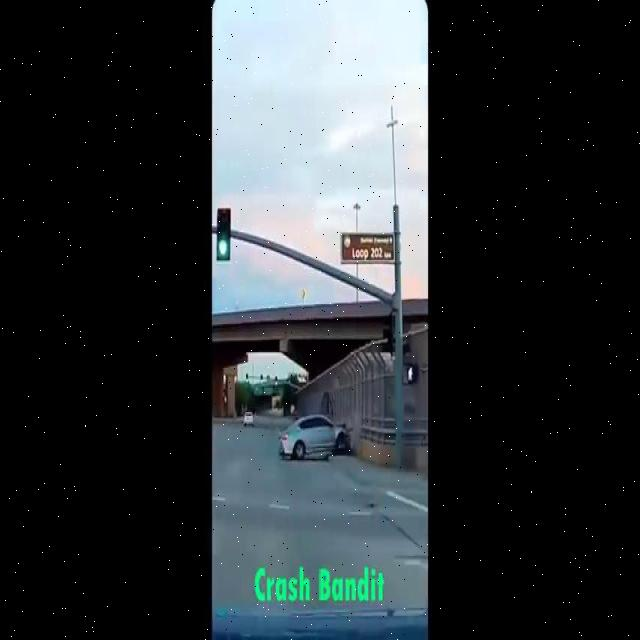moderate: (276, 402, 360, 462)
